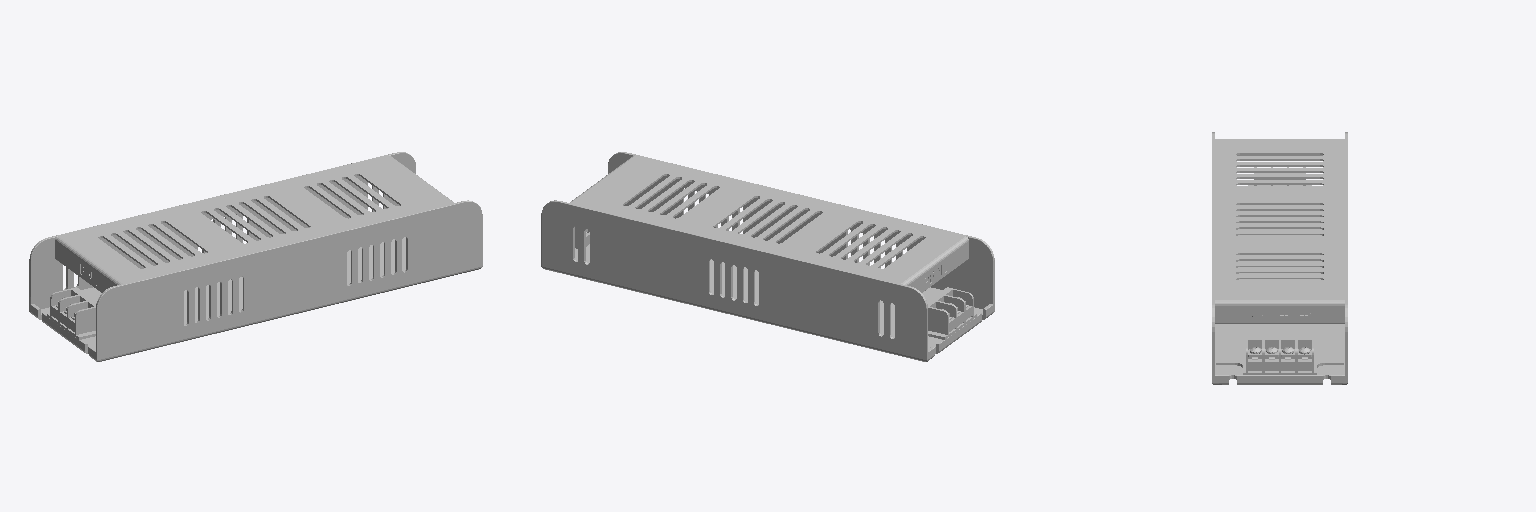
Rendered from PSU 200W v6.obj.
The picture shows the model from 3 angles: view 1: azimuth 30°, elevation 25°; view 2: azimuth 150°, elevation 25°; view 3: azimuth 270°, elevation 25°; orthographic projection.
Parts seen in each view (by area): view 1: Solid1:9, Solid2:2, Solid1:3; view 2: Solid1:9, Solid1:3, Solid2:2; view 3: Solid1:9, Solid2:2, Solid1:8.
Boxes of the visible parts, box(x1,y1,x2,y2) form: Solid1:9: box(29, 152, 482, 361); Solid2:2: box(47, 237, 405, 339); Solid1:3: box(50, 287, 96, 334); Solid1:9: box(541, 152, 994, 361); Solid1:3: box(927, 287, 973, 334); Solid2:2: box(575, 244, 976, 339); Solid1:9: box(1212, 132, 1347, 384); Solid2:2: box(1216, 185, 1343, 374); Solid1:8: box(1246, 337, 1313, 372).
Bounding box in the file's own units: 223 × 40 × 68.